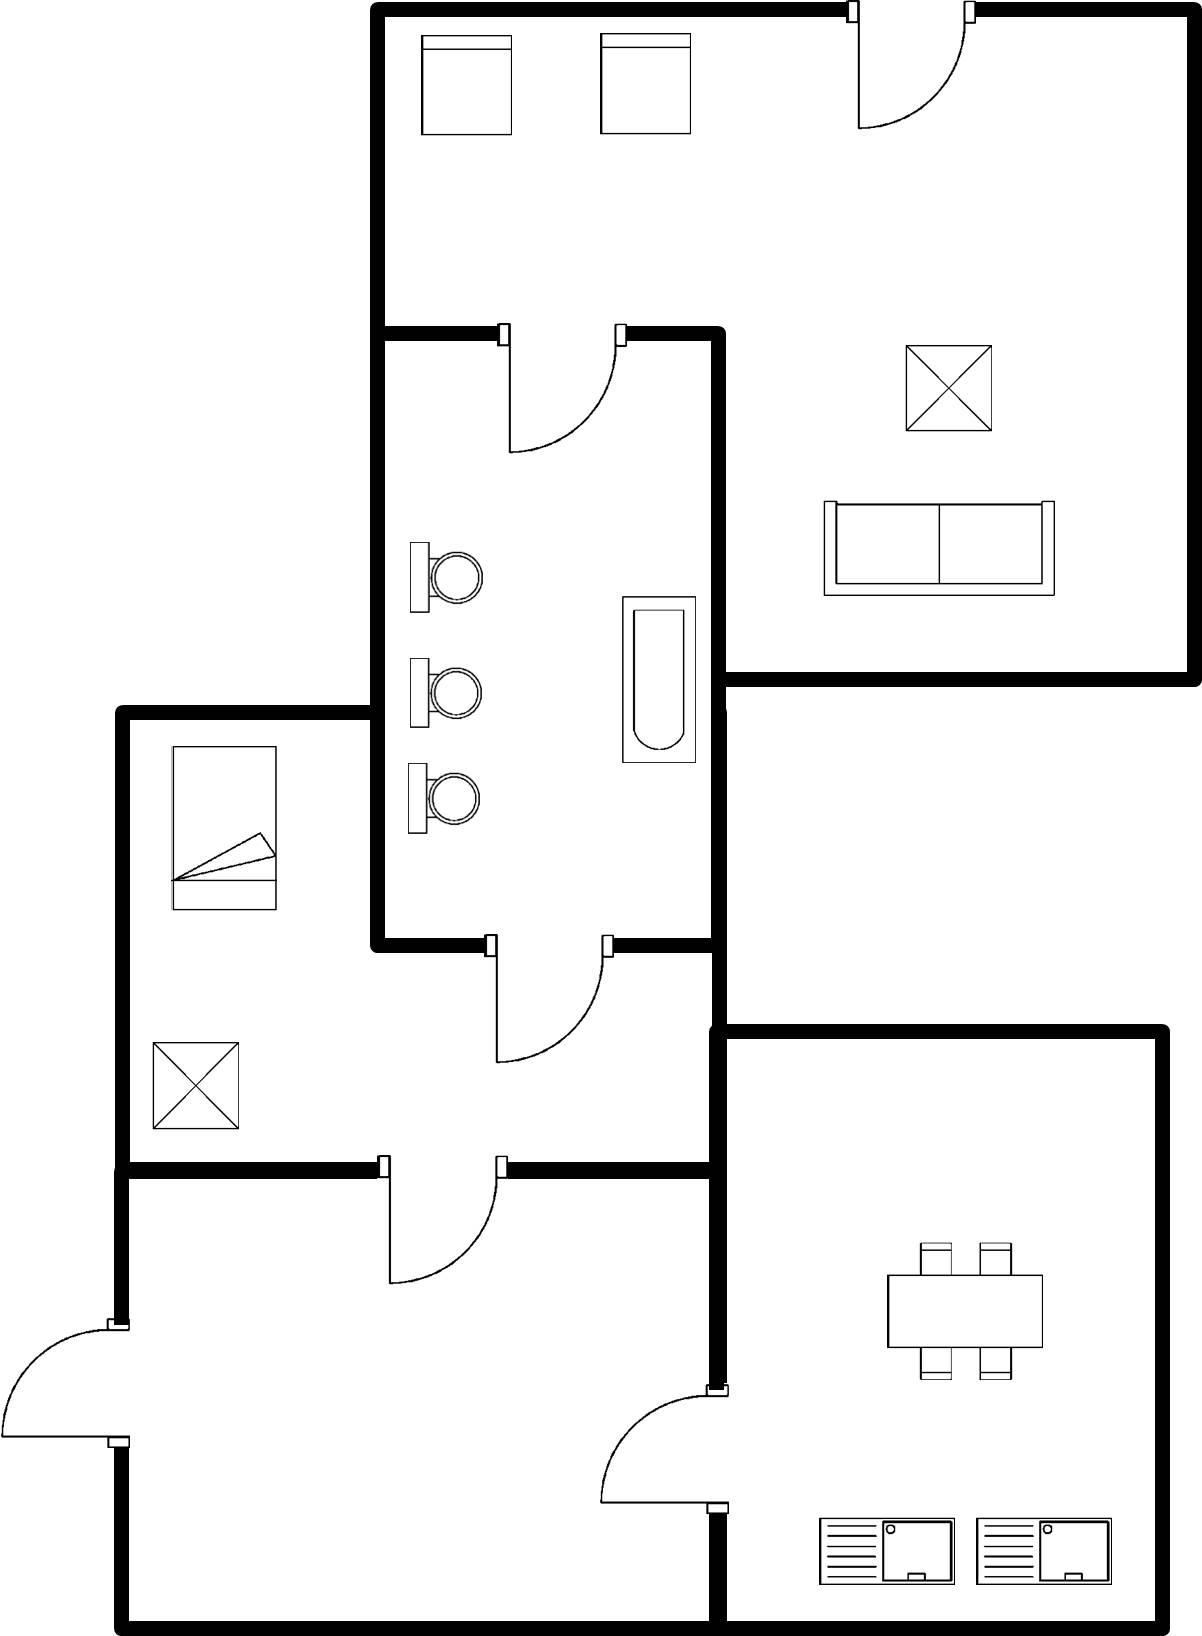bed: (161, 735, 285, 916)
dining_table: (875, 1232, 1055, 1391)
sink: (807, 1505, 964, 1599), (969, 1508, 1121, 1597)
sofa: (809, 489, 1069, 608)
toilet: (395, 528, 492, 627), (395, 754, 494, 846), (400, 648, 489, 741)
tub: (611, 583, 705, 774)
